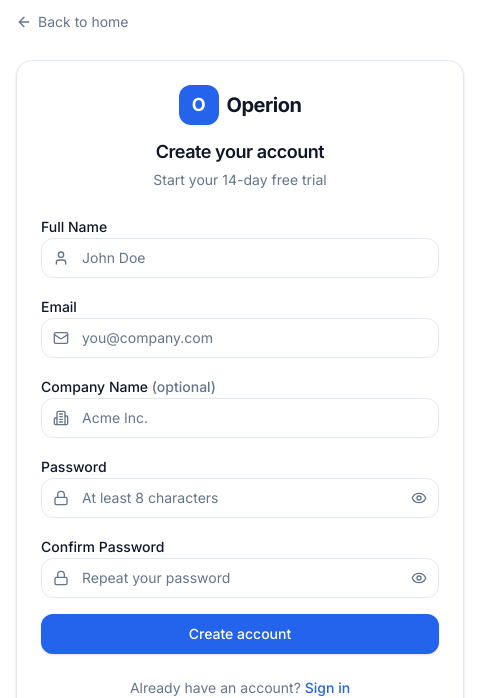
Test: RegisterPage › shows validation errors on empty submit
Click the button "Create account" at (240, 634), box [41, 614, 439, 654]
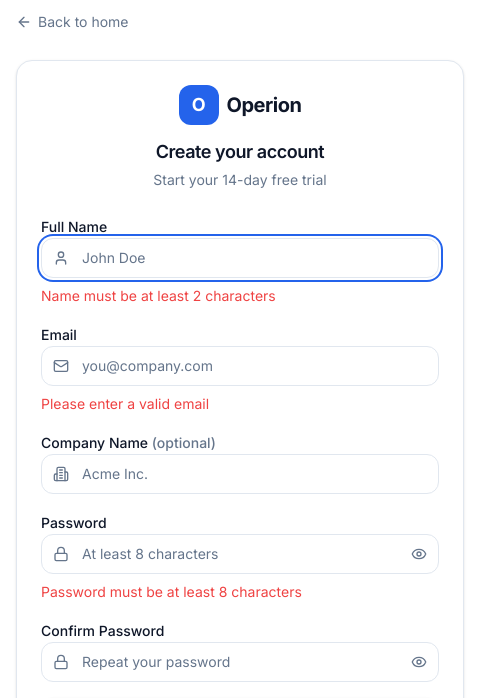
Now the text "Name must be at least 2 characters" is shown, box [41, 286, 276, 304]
Now the text "Please enter a valid email" is shown, box [41, 394, 209, 412]
Now the text "Password must be at least 8 characters" is shown, box [41, 582, 302, 600]
